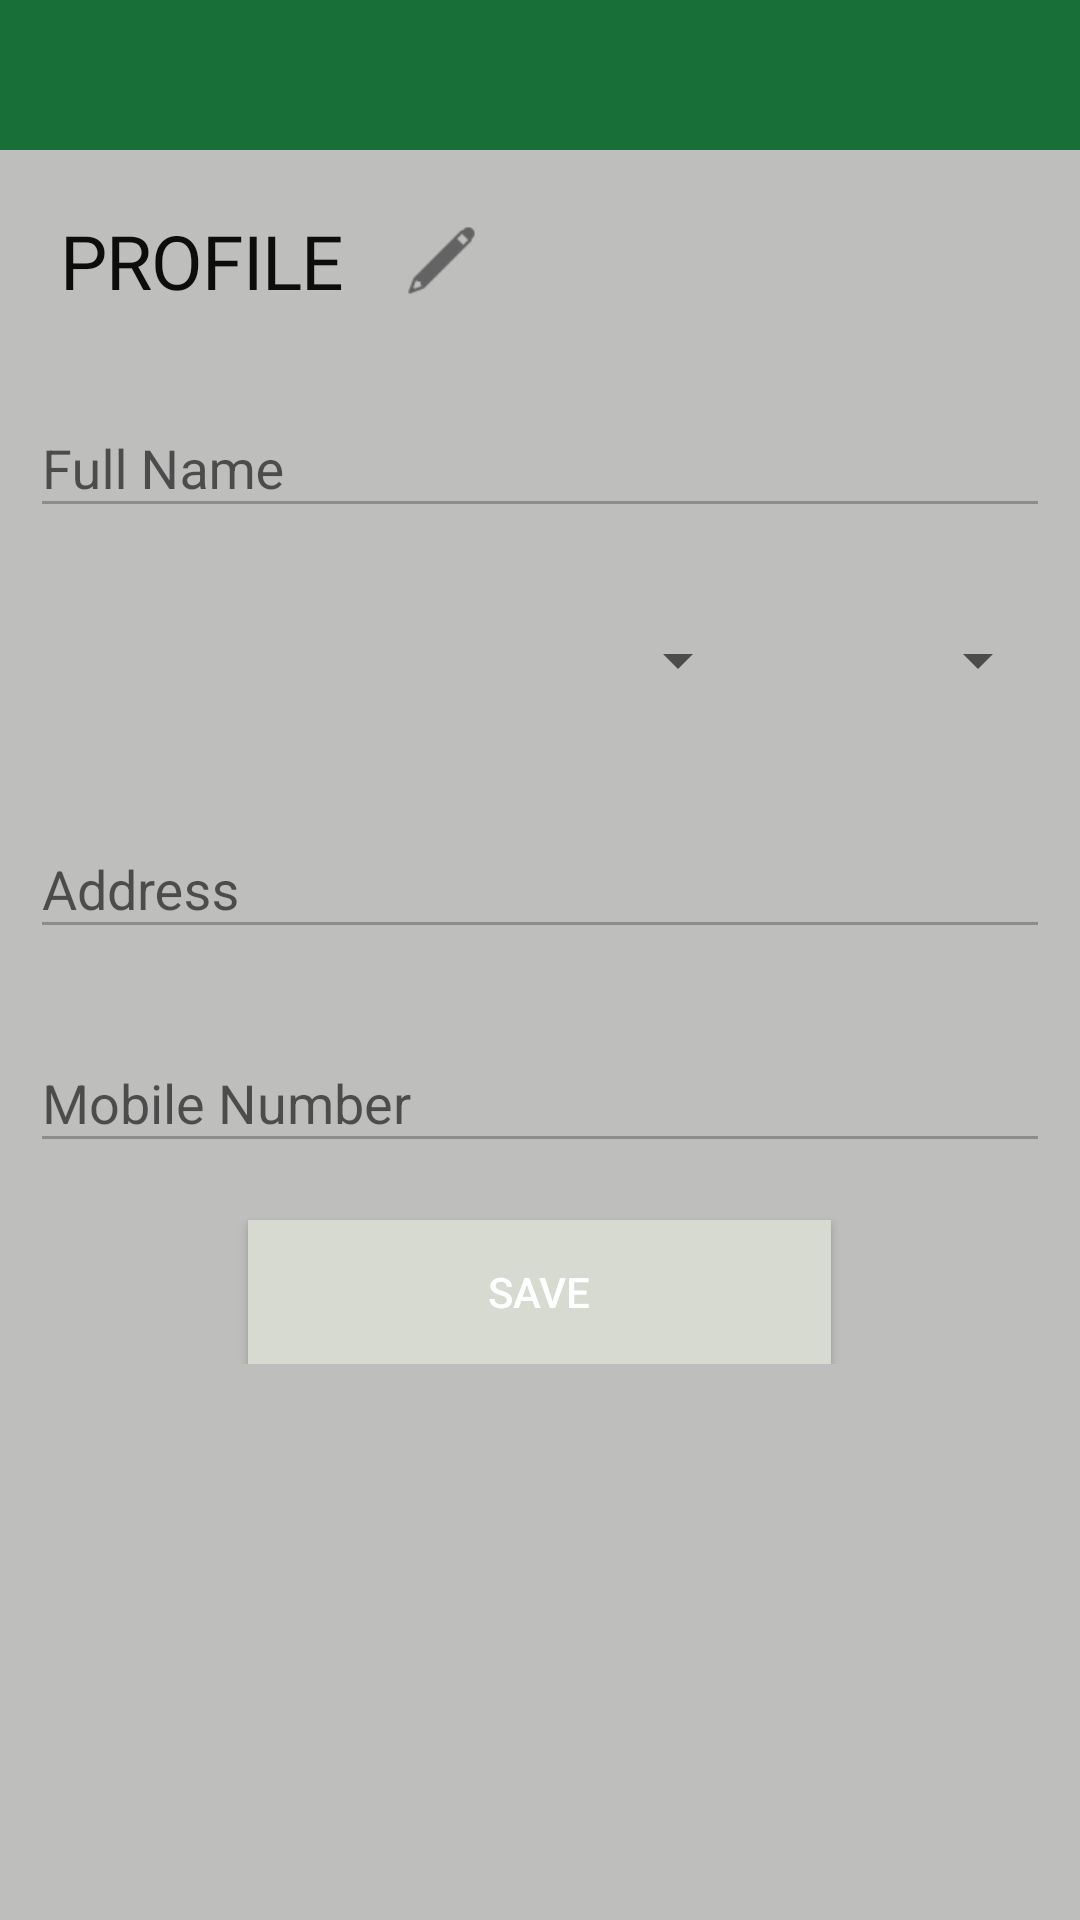

Icon click points for this 1080px×1920px phone screenshot, format [x,y]:
edit: [441,260]
